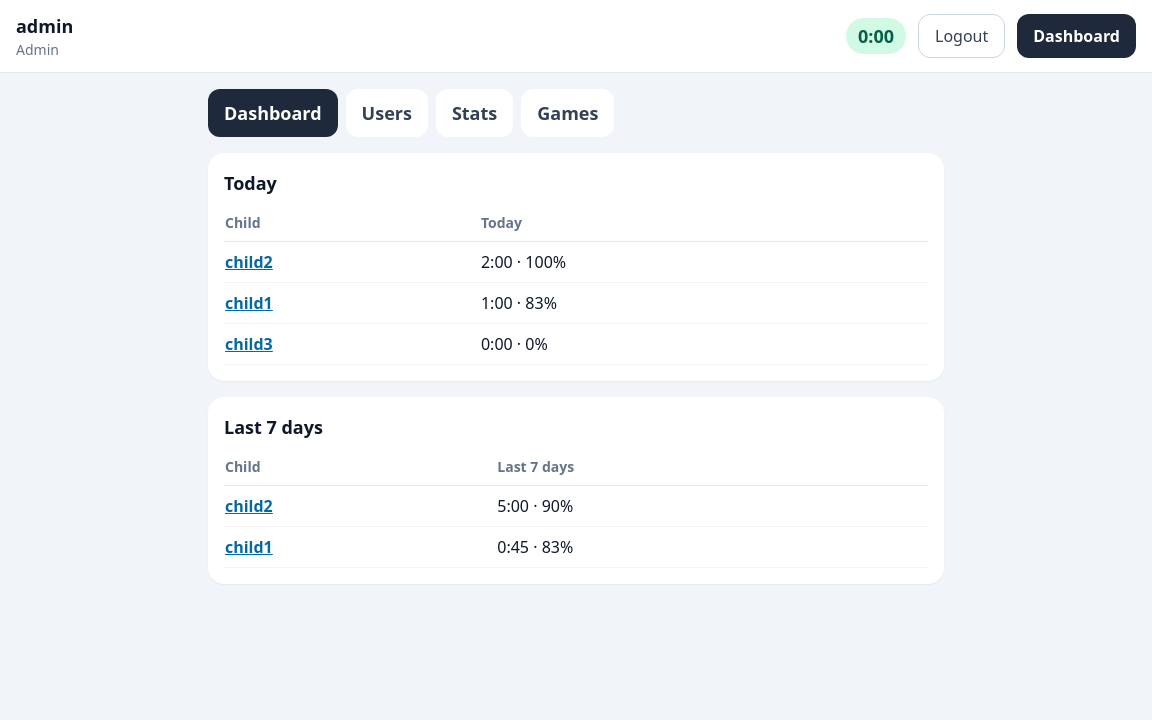
Test: T19 — child stats page links › case 1: clicking a name in the today table opens the child's stats page
What coordinates should you click on to do the following:
click the link "child1" in the row of "1:00"
I would click on:
 (249, 303)
Its box is [225,292,273,314].
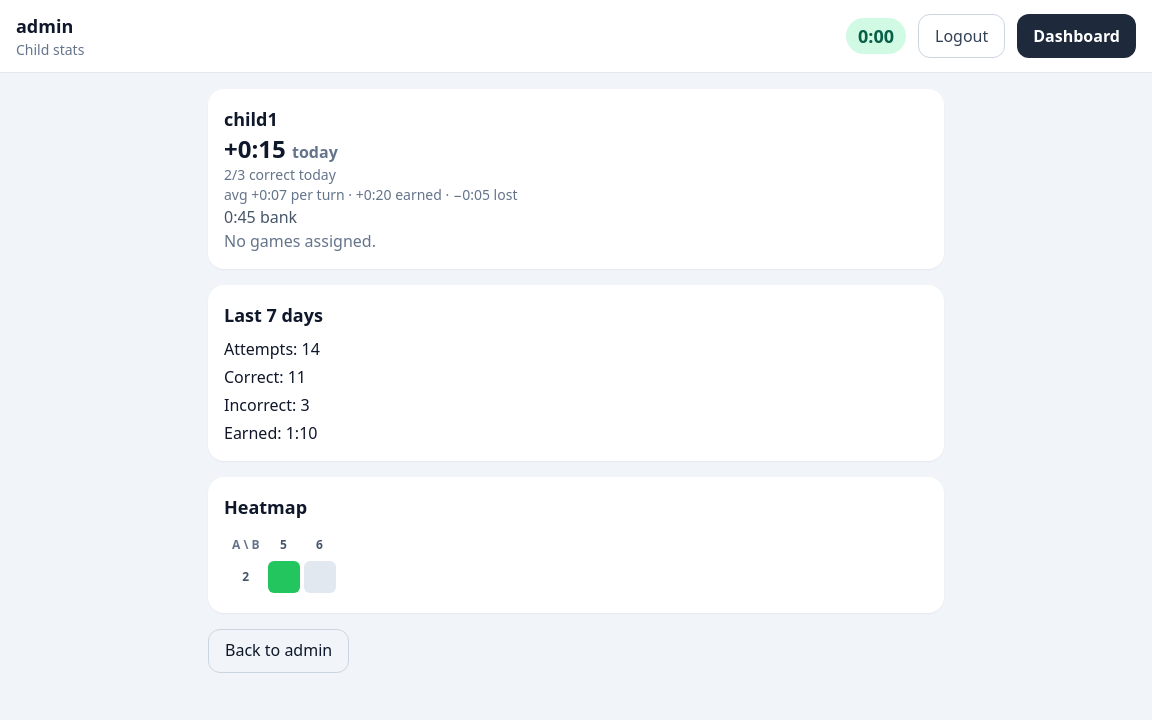
Expected: the heading with test id "user-stats-name" reads "child1", [224,107,278,131]
Expected: the link with test id "back-to-admin" is shown, [208,629,349,673]
